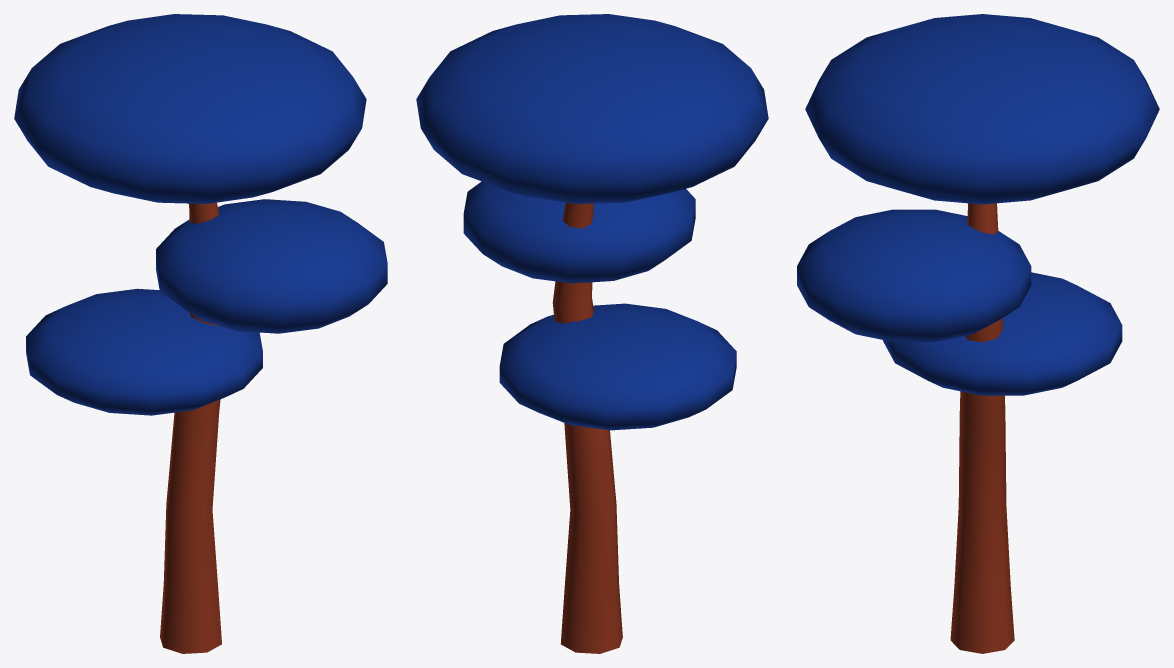
The model's file is Tree_04.FBX.
3 views of the same model, side by side, from view 1: azimuth 30°, elevation 25°; view 2: azimuth 150°, elevation 25°; view 3: azimuth 270°, elevation 25° (orthographic).
Visible parts, largest first — view 1: Line004; view 2: Line004; view 3: Line004.
Boxes of the visible parts, x1,y1,x2,y2 form: Line004: (14,14,387,653); Line004: (416,14,768,653); Line004: (797,14,1159,653).
Size of the model in its own units: 604 by 1110 by 618.
